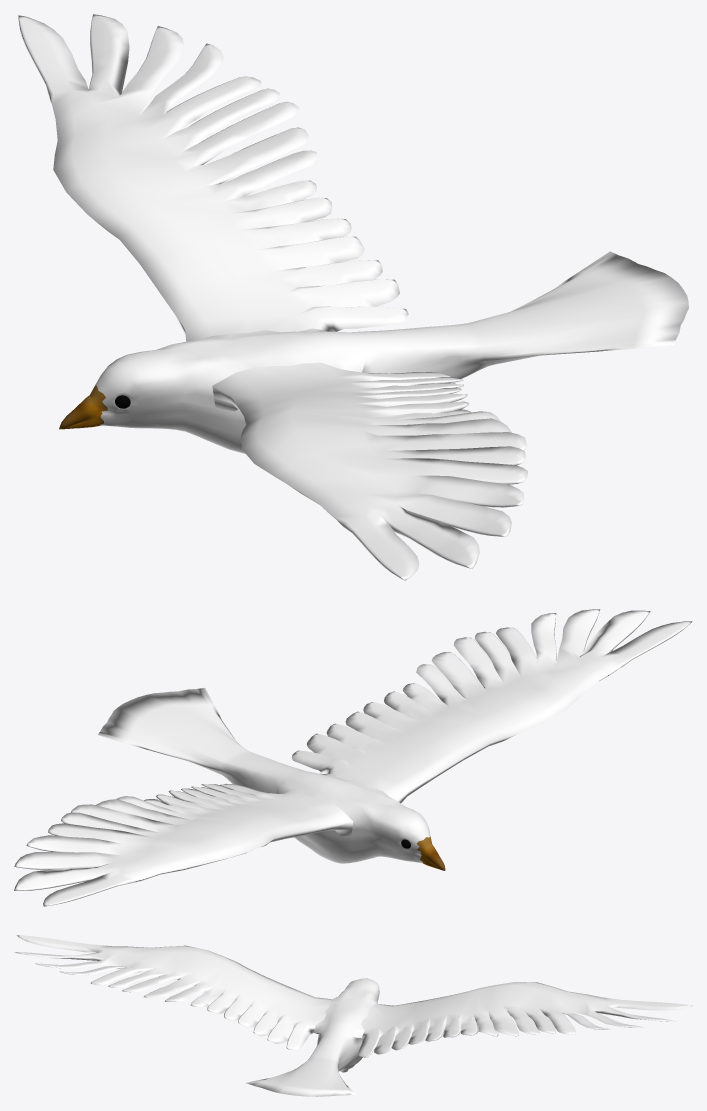
Rendered from dove.obj.
3 renders of one model, top to bottom at view 1: azimuth 30°, elevation 25°; view 2: azimuth 150°, elevation 25°; view 3: azimuth 270°, elevation 25°, orthographic. The views are drawn at different scales.
Parts seen in each view (by area): view 1: dove_eye2; view 2: dove_eye2; view 3: dove_eye2.
Part boxes in pixels (x1,y1,x2,y2): dove_eye2: (18,14,688,580); dove_eye2: (14,609,692,906); dove_eye2: (15,935,692,1096).
Bounding box in the file's own units: 0.3737 × 0.1034 × 0.783.
2 materials, 1 textured.
